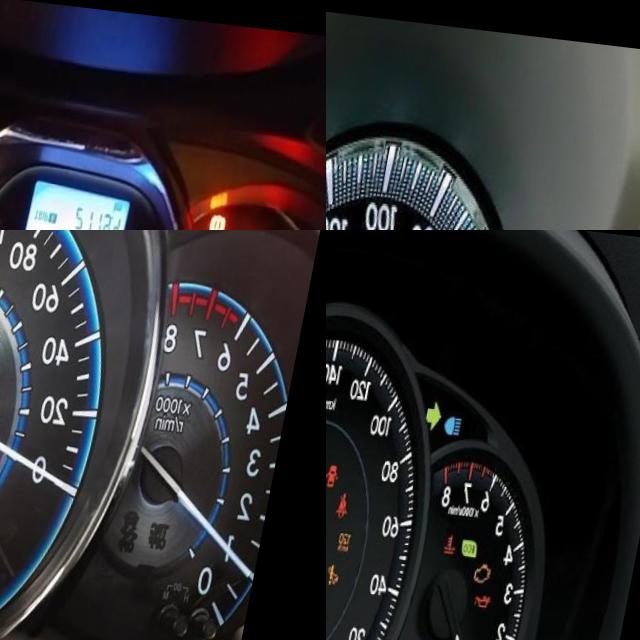High Engine Coolant Temperature: (457, 524, 470, 543)
Seat Belt: (347, 484, 362, 510)
